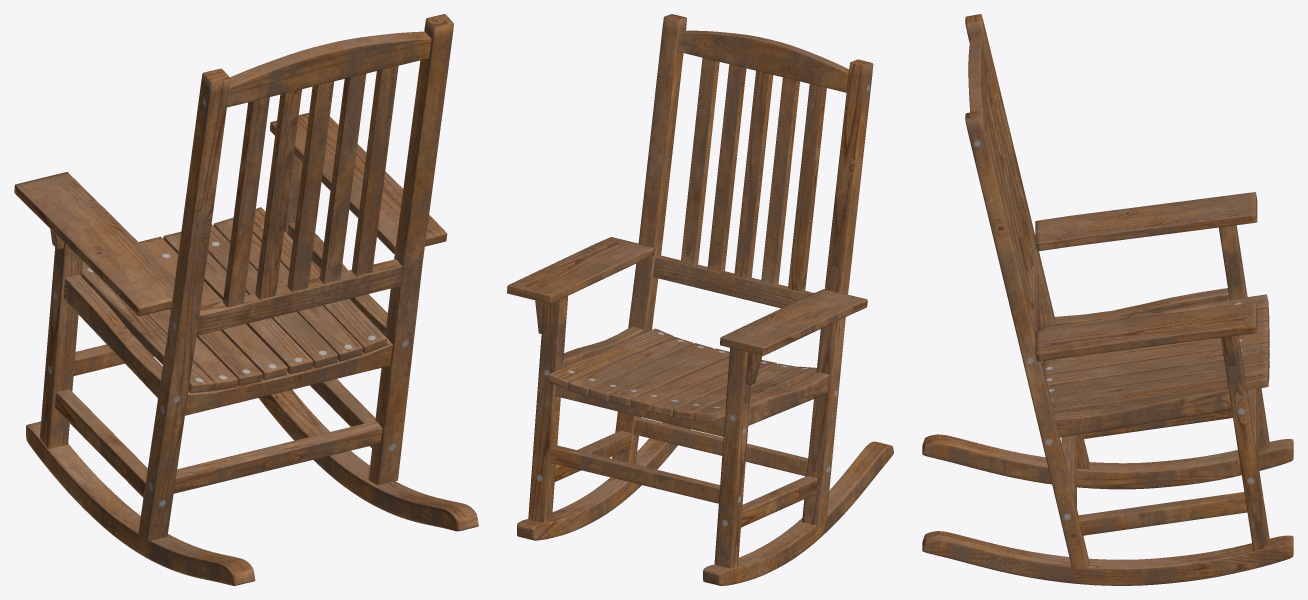
File: Chair46.fbx
3 renders of one model, left to right at view 1: azimuth 30°, elevation 25°; view 2: azimuth 150°, elevation 25°; view 3: azimuth 270°, elevation 25°, orthographic. The views are drawn at different scales.
Visible parts, largest first — view 1: Chair46; view 2: Chair46; view 3: Chair46.
Boxes of the visible parts, x1,y1,x2,y2 form: Chair46: [14, 14, 478, 585]; Chair46: [507, 14, 893, 585]; Chair46: [922, 14, 1293, 585].
Size of the model in its own units: 61.17 by 99.95 by 71.97.
